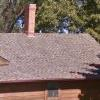Chimney: (19, 1, 42, 44)
